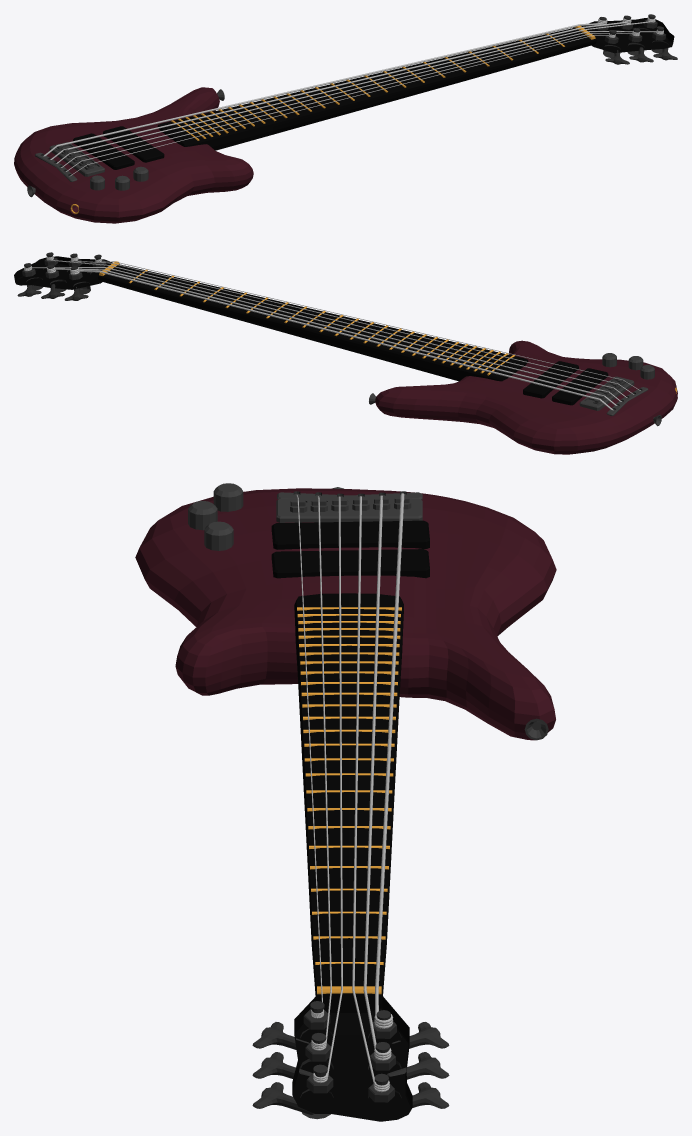
Rendered from bass.gltf.
3 views of the same model, one above another, from view 1: azimuth 30°, elevation 25°; view 2: azimuth 150°, elevation 25°; view 3: azimuth 270°, elevation 25° (orthographic). The views are drawn at different scales.
Parts seen in each view (by area): view 1: Cube.002, Cube.004, Cube.005, Cylinder, Cylinder.009, Cylinder.011, Cylinder.012, Cylinder.013, Cube.011, Cube.010, Cylinder.014, Cylinder.004 (+3 smaller); view 2: Cube.002, Cube.004, Cube.005, Cylinder, Cylinder.009, Cylinder.011, Cylinder.012, Cylinder.013, Cube.011, Cube.010, Cylinder.014, Cylinder.004 (+4 smaller); view 3: Cube.002, Cube.004, Cube.005, Cylinder, Cylinder.004, Cube.011, Cube.010, Cylinder.009, Cube.012, Cylinder.011, Cylinder.012, Cylinder.013 (+5 smaller).
Boxes of the visible parts, x1,y1,x2,y2 form: Cube.002: [14, 87, 253, 223]; Cube.004: [157, 28, 596, 150]; Cube.005: [581, 18, 674, 53]; Cylinder: [171, 25, 595, 140]; Cylinder.009: [43, 23, 604, 156]; Cylinder.011: [50, 21, 629, 159]; Cylinder.012: [56, 21, 652, 163]; Cylinder.013: [61, 31, 656, 167]; Cube.011: [73, 133, 134, 169]; Cube.010: [103, 126, 164, 162]; Cylinder.014: [66, 33, 632, 171]; Cylinder.004: [573, 27, 677, 64]; Cube.002: [375, 340, 677, 454]; Cube.004: [98, 264, 528, 381]; Cube.005: [14, 256, 112, 289]; Cylinder: [99, 261, 515, 375]; Cylinder.009: [79, 270, 613, 410]; Cylinder.011: [55, 268, 617, 405]; Cylinder.012: [32, 267, 621, 401]; Cylinder.013: [48, 259, 627, 397]; Cube.011: [552, 368, 608, 405]; Cube.010: [523, 361, 578, 398]; Cylinder.014: [72, 260, 633, 394]; Cylinder.004: [17, 265, 92, 300]; Cube.002: [135, 488, 556, 740]; Cube.004: [294, 593, 403, 1012]; Cube.005: [292, 996, 412, 1121]; Cylinder: [297, 607, 401, 994]; Cylinder.004: [252, 1022, 449, 1119]; Cube.011: [271, 520, 429, 549]; Cube.010: [271, 549, 429, 578]; Cylinder.009: [375, 493, 404, 1015]; Cube.012: [276, 498, 422, 522]; Cylinder.011: [363, 495, 382, 1049]; Cylinder.012: [352, 496, 374, 1083]; Cylinder.013: [327, 496, 342, 1078].
Bounding box in the file's own units: 38.67 × 2.33 × 11.18.
